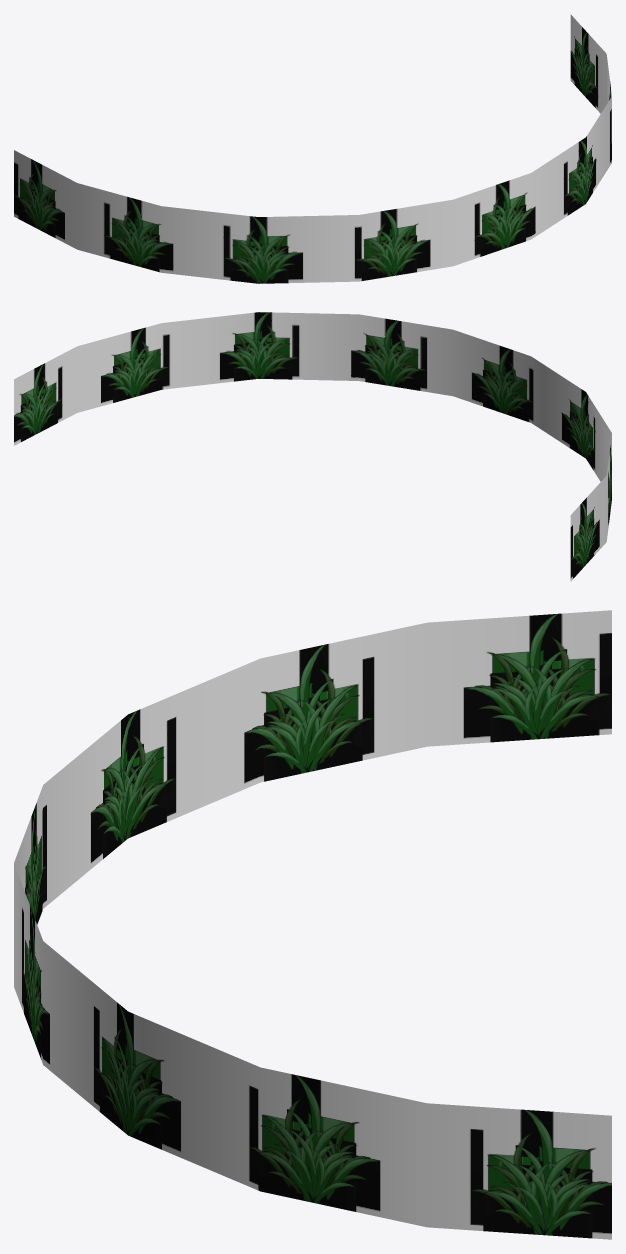
Rendered from Bush_Exterior_Cilynder.fbx.
3 views of the same model, one above another, from view 1: azimuth 30°, elevation 25°; view 2: azimuth 150°, elevation 25°; view 3: azimuth 270°, elevation 25° (orthographic). The views are drawn at different scales.
Visible parts, largest first — view 1: Bush_Exterior_Cilynder; view 2: Bush_Exterior_Cilynder; view 3: Bush_Exterior_Cilynder.
Boxes of the visible parts, <box> form: Bush_Exterior_Cilynder: <box>14,14,611,283</box>; Bush_Exterior_Cilynder: <box>14,312,611,581</box>; Bush_Exterior_Cilynder: <box>14,610,611,1239</box>.
Size of the model in its own units: 641 by 73.43 by 321.
